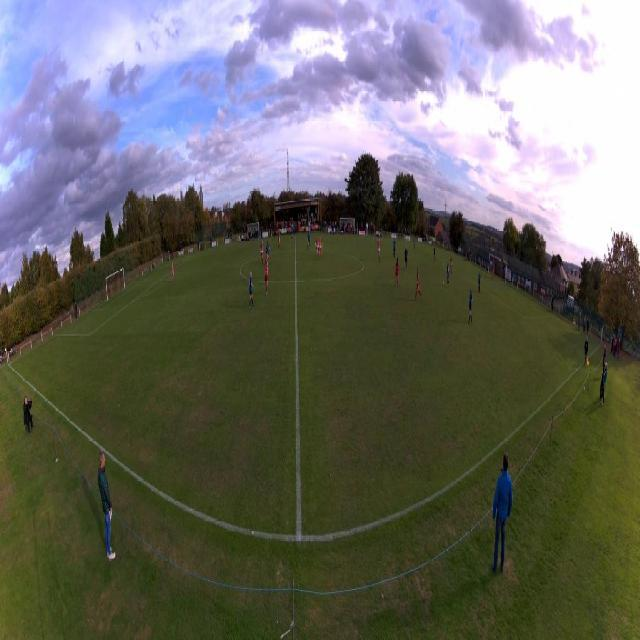ball: (442, 281, 444, 285)
player: (248, 271, 254, 310), (415, 268, 422, 300), (468, 288, 473, 324), (394, 258, 400, 288), (265, 260, 269, 296), (314, 236, 319, 260), (266, 240, 271, 262), (446, 262, 450, 287), (404, 246, 408, 270), (260, 241, 264, 265), (290, 224, 295, 241), (393, 237, 397, 258), (319, 238, 323, 259), (307, 230, 311, 250), (478, 271, 481, 293), (378, 240, 381, 262), (171, 262, 174, 281), (278, 231, 281, 249), (450, 256, 452, 274), (434, 244, 436, 260), (492, 264, 494, 280), (378, 232, 381, 242), (413, 237, 415, 251)
